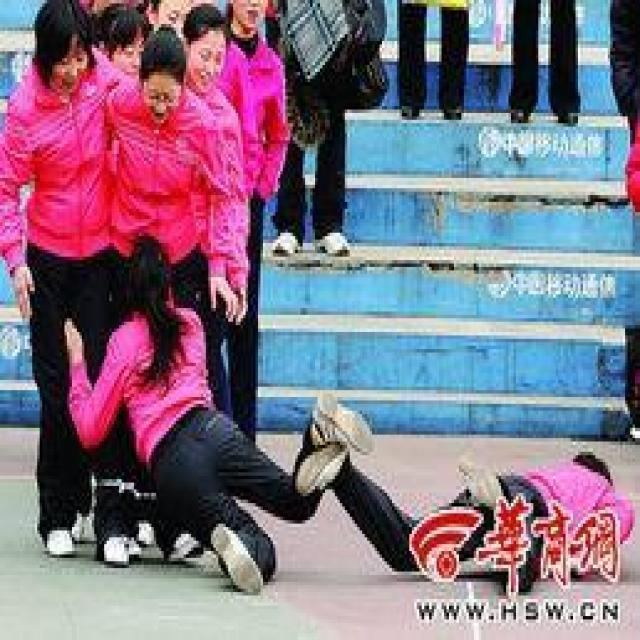fall: (310, 366, 635, 592)
